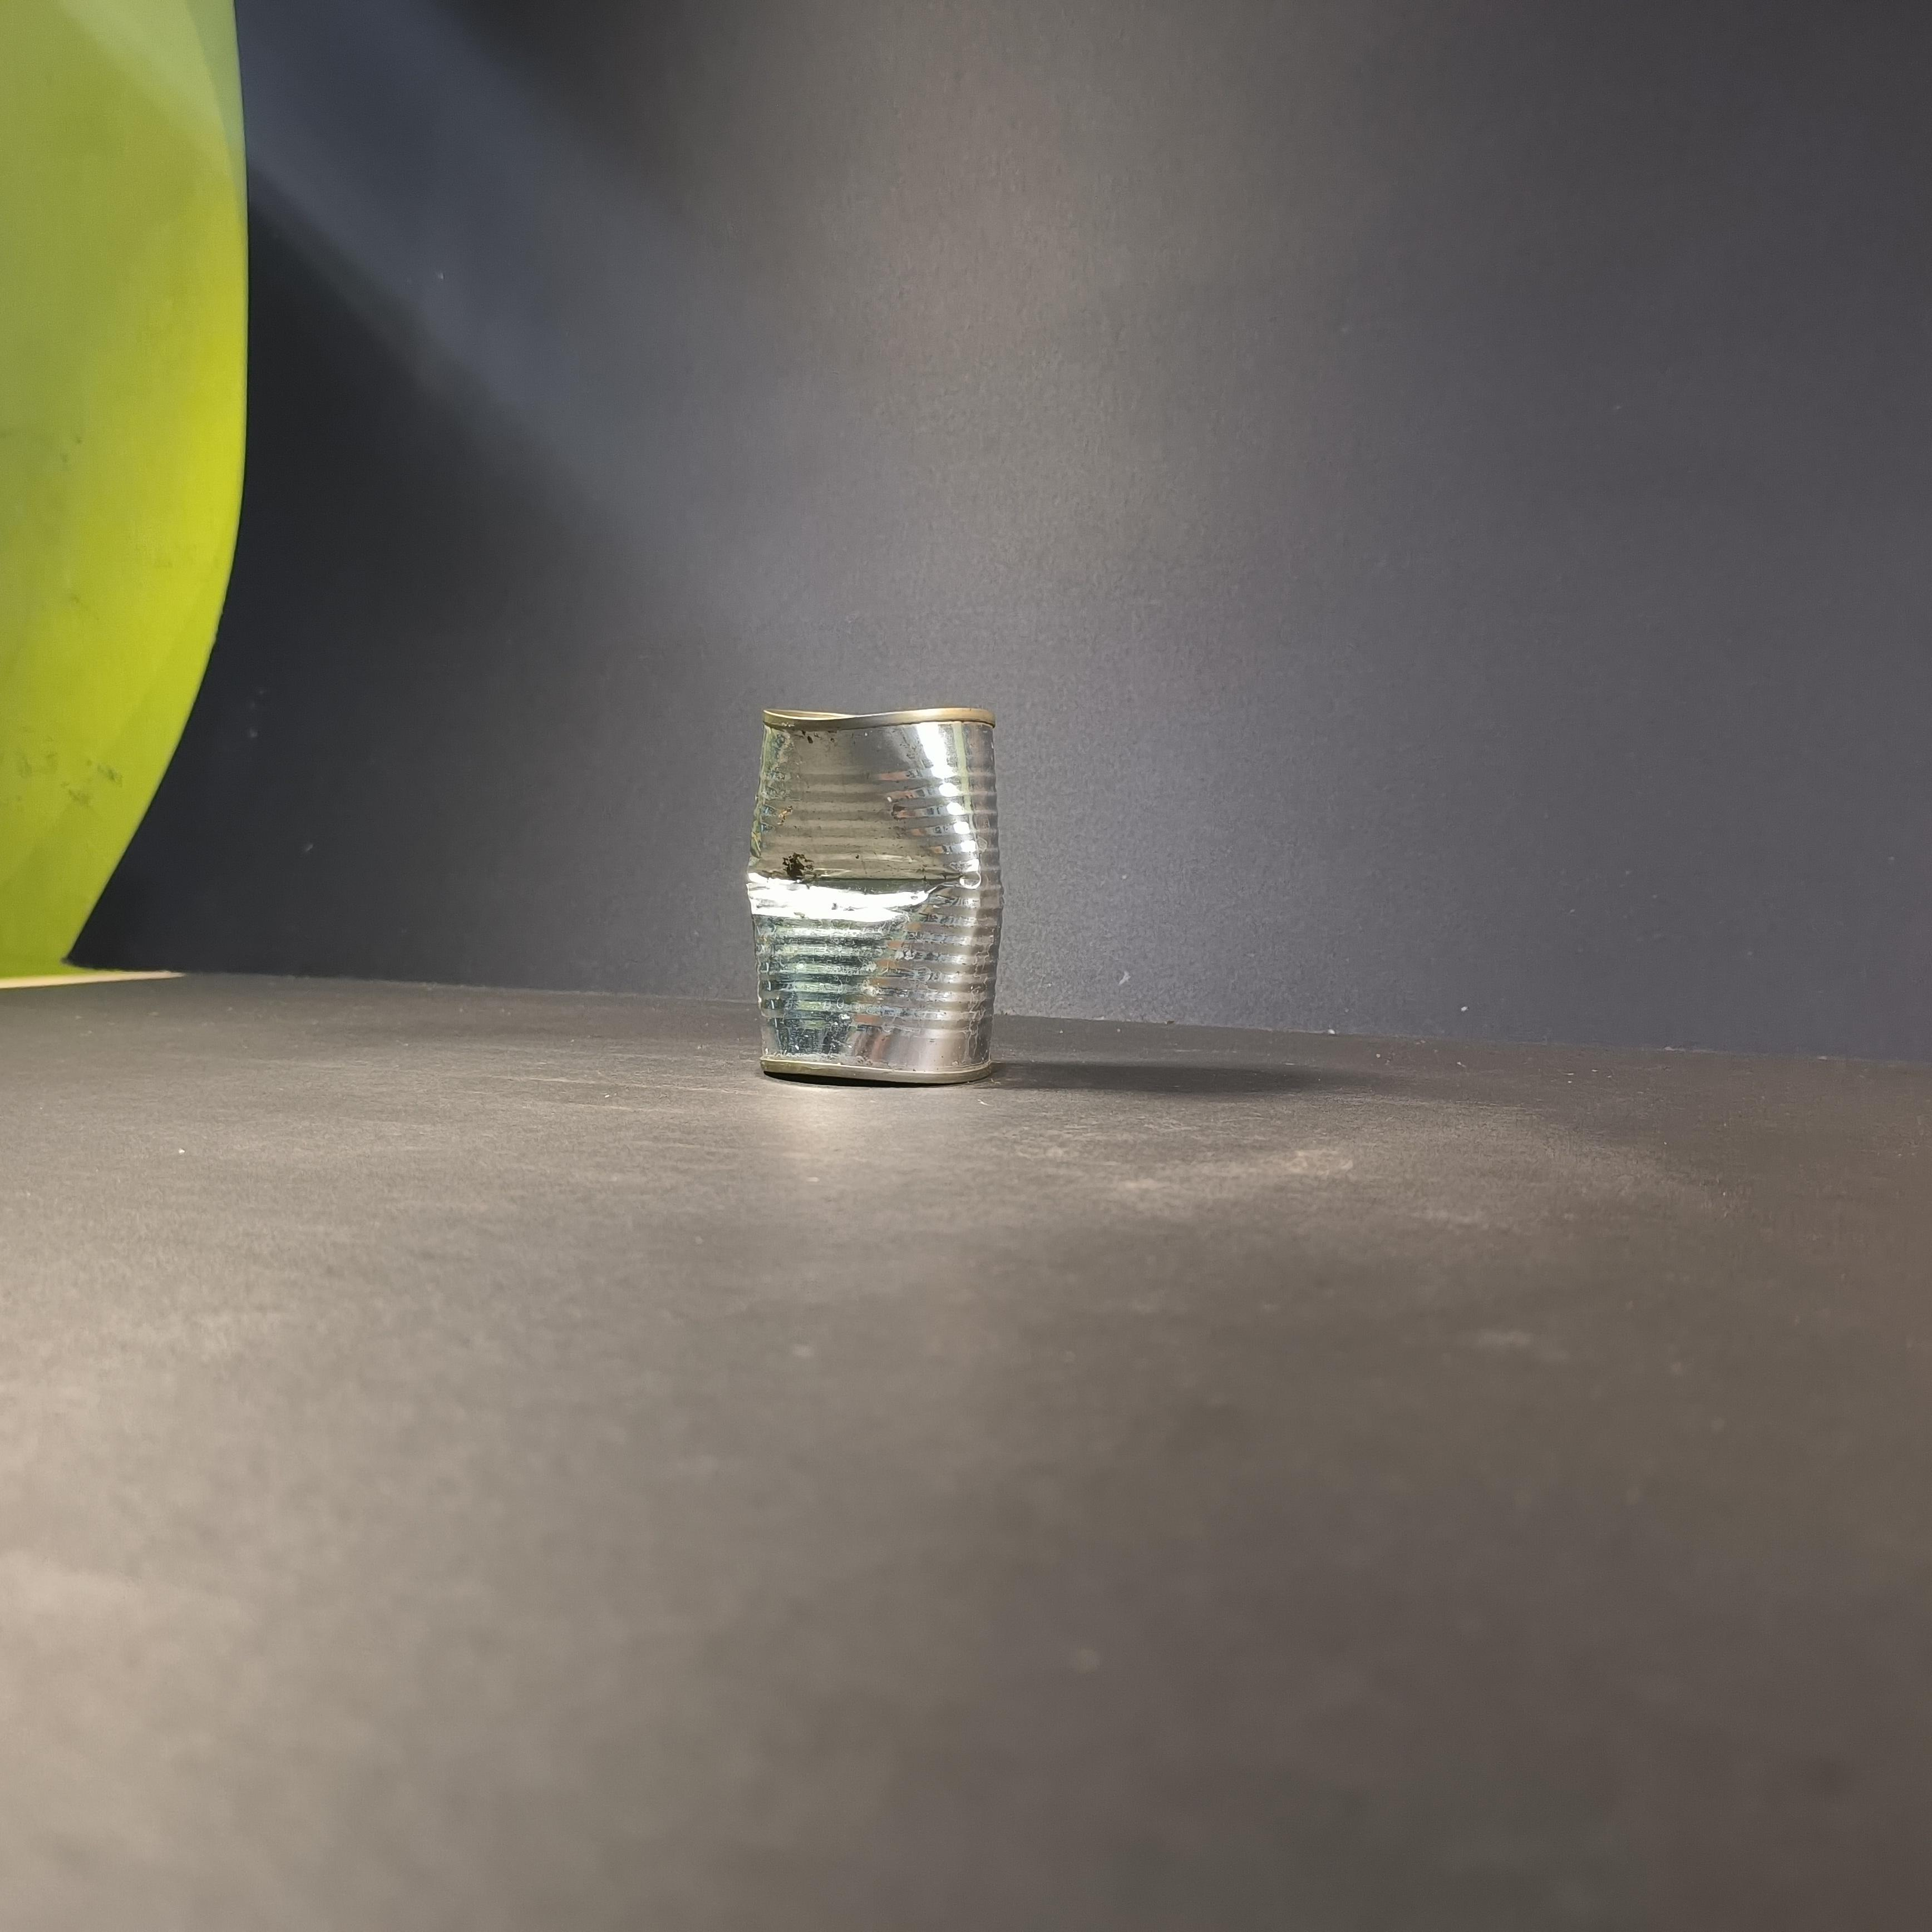Dented: (704, 674, 1019, 1116)
